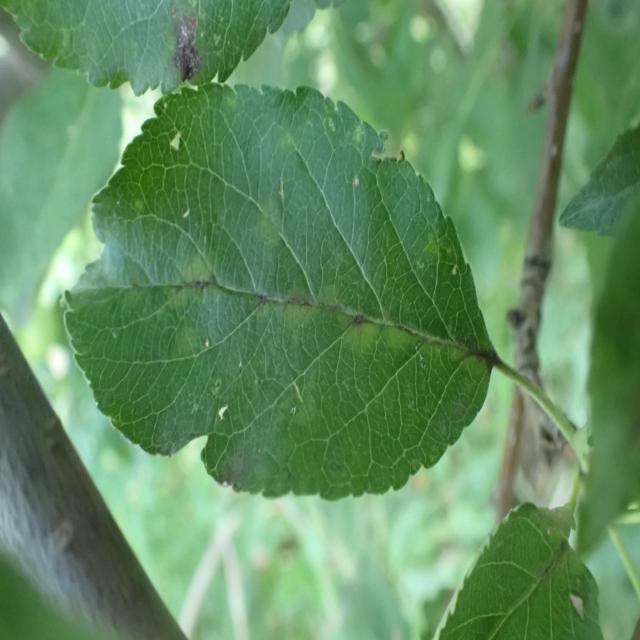scab: (134, 125, 468, 456), (150, 12, 237, 105)
